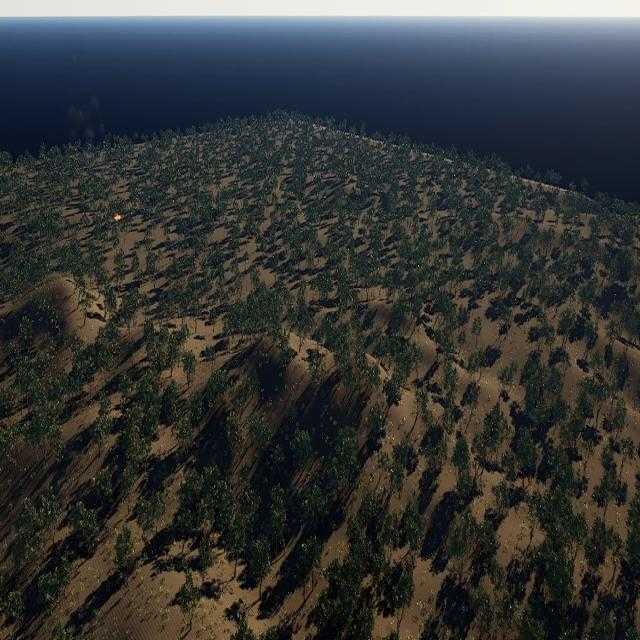fire: (114, 213, 121, 221)
smoke: (59, 52, 114, 204)
